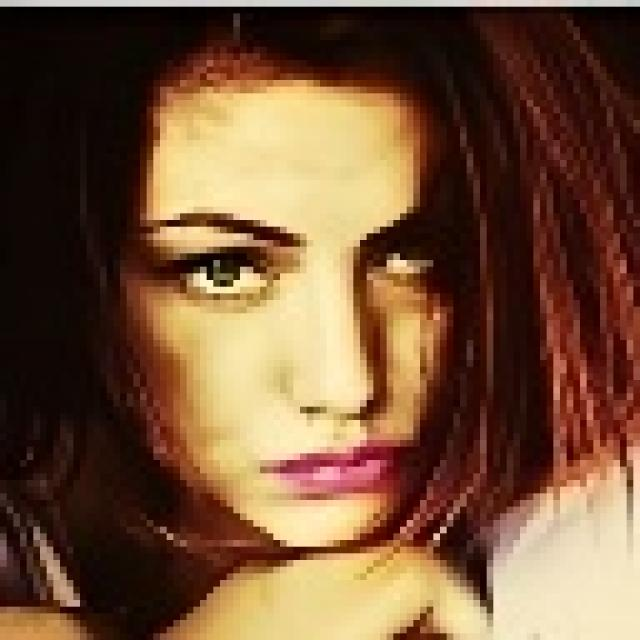sad: (92, 14, 484, 591)
